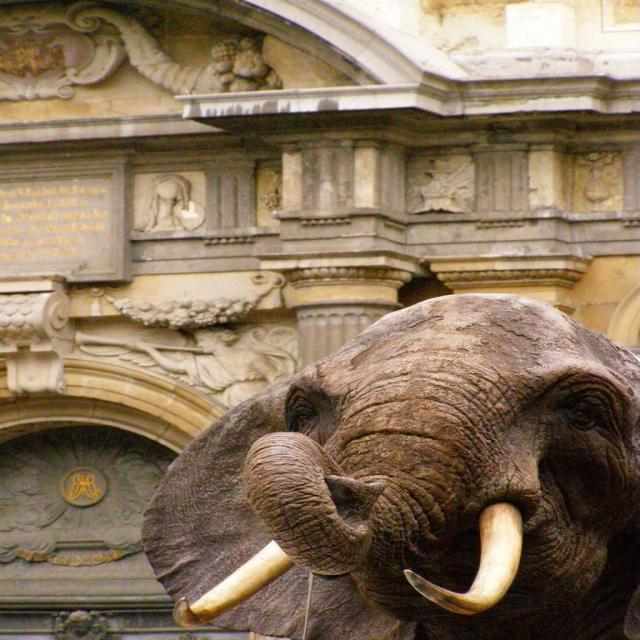Elephant: (131, 297, 638, 639)
